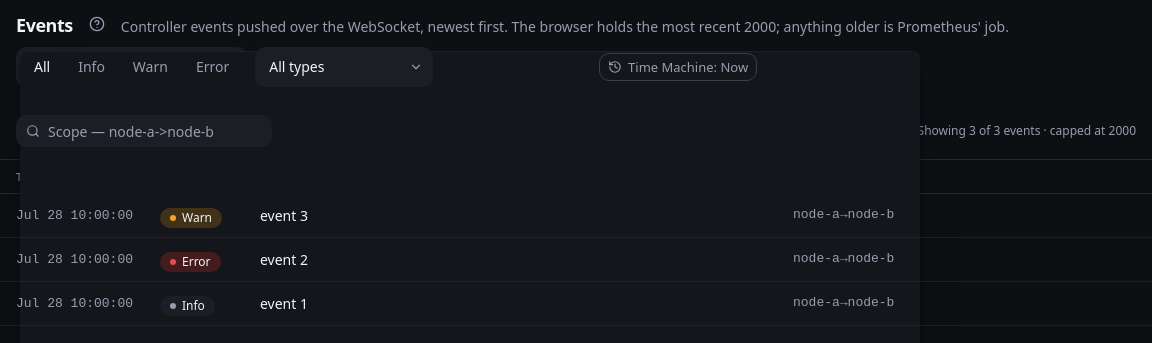
Test: filters changed while the stream is held › counts what it holds, not what it shows, while a filter is on
Click the radio button labelled "Warn" at (150, 67), box top-left (119, 51), bottom-right (182, 83)
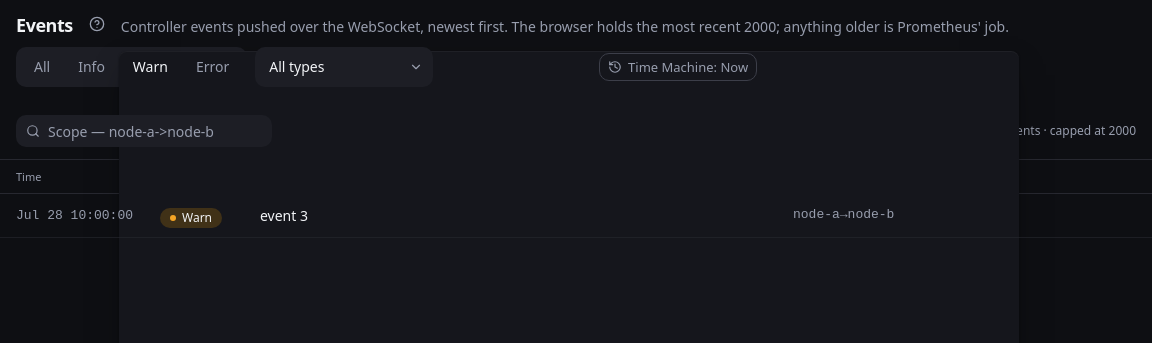
expect the text "Showing 1 of 3 events · capped at 2000" is shown: met, box top-left (918, 123), bottom-right (1136, 139)
Click the radio button labelled "All" at (42, 67), box top-left (20, 51), bottom-right (64, 83)
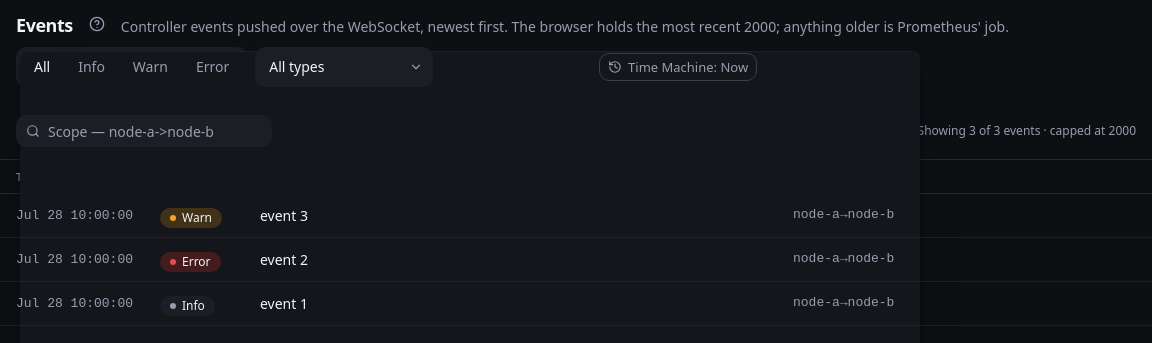
expect the text "Showing 3 of 3 events · capped at 2000" is shown: met, box top-left (918, 123), bottom-right (1136, 139)
